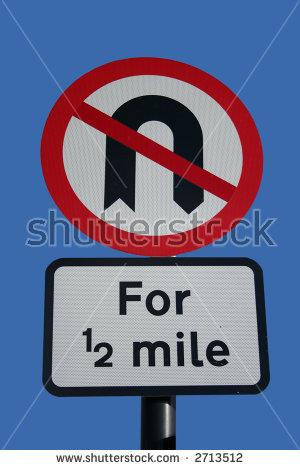no_u_turn: (38, 54, 264, 256)
